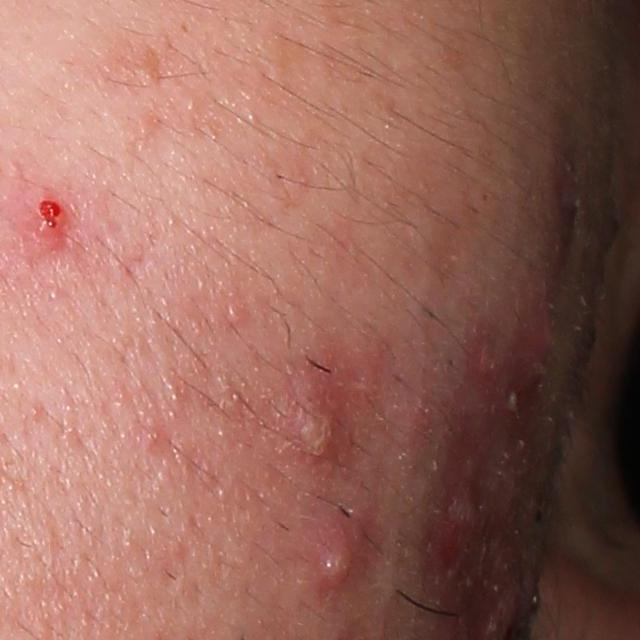comedo: (220, 299, 249, 330)
